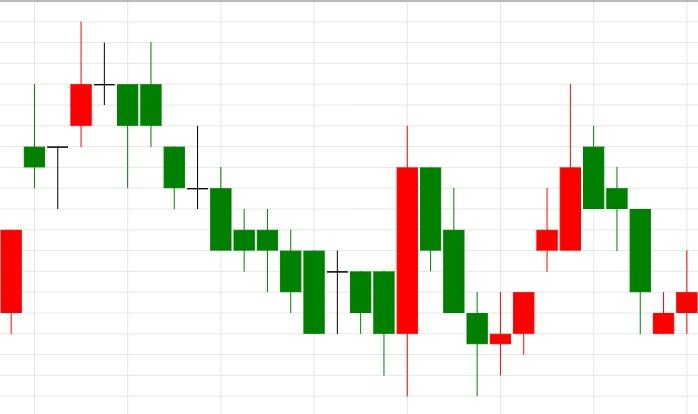bullish_engulfing_rise: (92, 41, 419, 397)
evening_star_fall: (0, 22, 139, 334)
